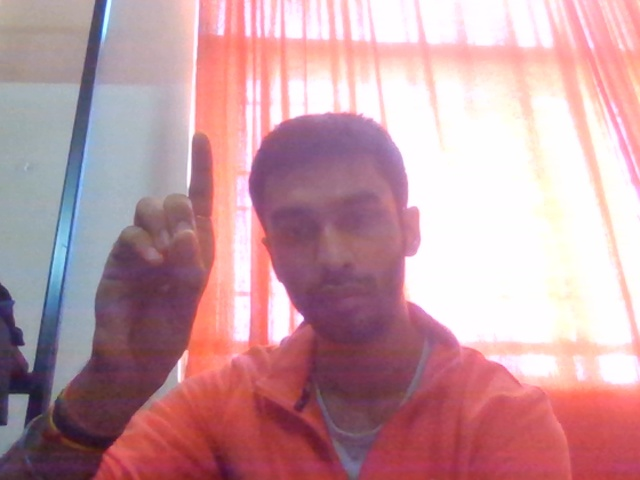D: (72, 112, 238, 420)
